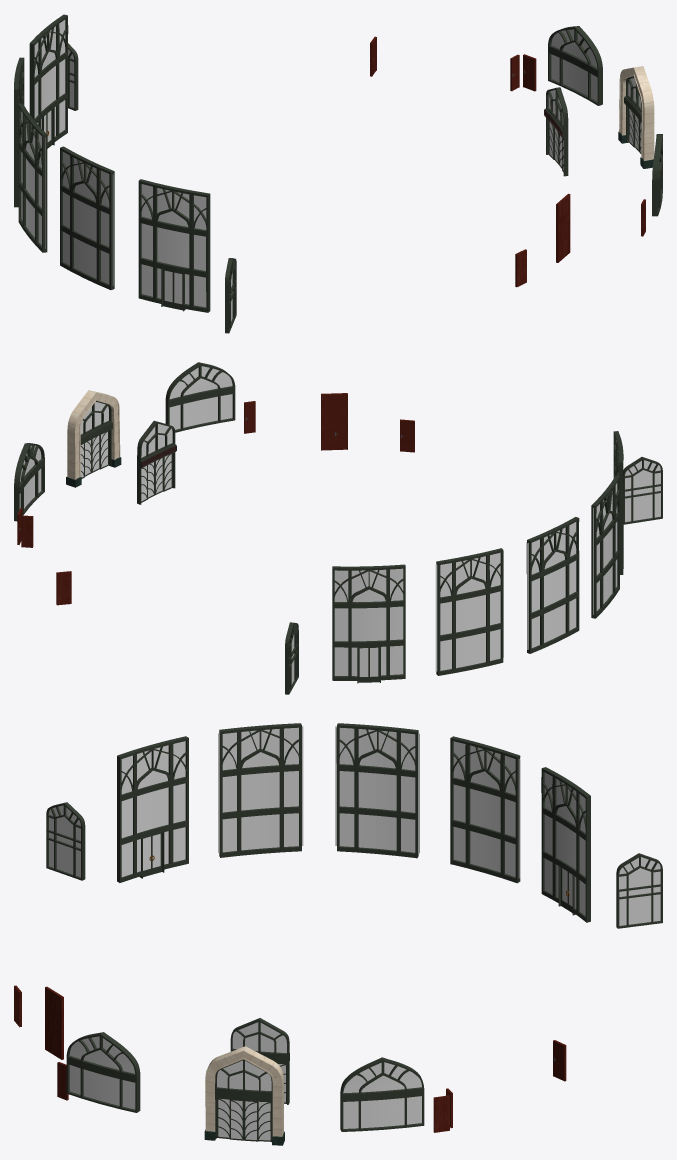
Rendered from Windows.fbx.
The picture shows the model from 3 angles, top to bottom: view 1: azimuth 30°, elevation 25°; view 2: azimuth 150°, elevation 25°; view 3: azimuth 270°, elevation 25°; orthographic projection. The views are drawn at different scales.
Parts seen in each view (by area): view 1: Glass.001, Door.001, Glass.006, Window.002, Window.001, Door, Glass, Window2, Window2_Door.004, Glass.003, Window2_Door, Glass.004 (+9 smaller); view 2: Glass, Glass.002, Door, Glass.004, Window, Window.001, Window.002, Glass.007, Window2_Door.004, Window2.001, Window2_Door, Glass.009 (+12 smaller); view 3: Glass.004, Glass.006, Glass.002, Glass.001, Door.001, Window.002, Window.001, Window, Door, Glass.003, Glass, Glass.010 (+13 smaller).
Part boxes in pixels (x1,y1,x2,y2): Glass.001: [141, 184, 206, 307]; Door.001: [138, 179, 210, 312]; Glass.006: [63, 152, 113, 285]; Window.002: [60, 146, 114, 289]; Window.001: [18, 103, 47, 252]; Door: [29, 14, 68, 148]; Glass: [34, 20, 65, 142]; Window2: [548, 26, 602, 105]; Window2_Door.004: [619, 66, 654, 160]; Glass.003: [551, 29, 597, 101]; Window2_Door: [544, 87, 568, 176]; Glass.004: [21, 111, 45, 248]; Glass: [334, 568, 403, 676]; Glass.002: [435, 551, 503, 671]; Door: [332, 564, 405, 683]; Glass.004: [527, 522, 576, 649]; Window: [436, 548, 503, 675]; Window.001: [526, 517, 579, 653]; Window.002: [591, 475, 619, 618]; Glass.007: [169, 366, 232, 429]; Window2_Door.004: [67, 390, 120, 479]; Window2.001: [165, 362, 235, 432]; Window2_Door: [137, 420, 176, 504]; Glass.009: [625, 460, 660, 522]; Glass.004: [335, 726, 419, 853]; Glass.006: [218, 726, 303, 852]; Glass.002: [453, 741, 520, 878]; Glass.001: [121, 741, 185, 877]; Door.001: [117, 736, 188, 882]; Window.002: [219, 723, 301, 857]; Window.001: [336, 723, 418, 858]; Window: [450, 736, 520, 883]; Door: [541, 767, 590, 922]; Glass.003: [343, 1062, 421, 1128]; Glass: [544, 772, 585, 915]; Glass.010: [217, 1060, 271, 1140].
Size of the model in its own units: 40.55 by 8.34 by 37.9.
